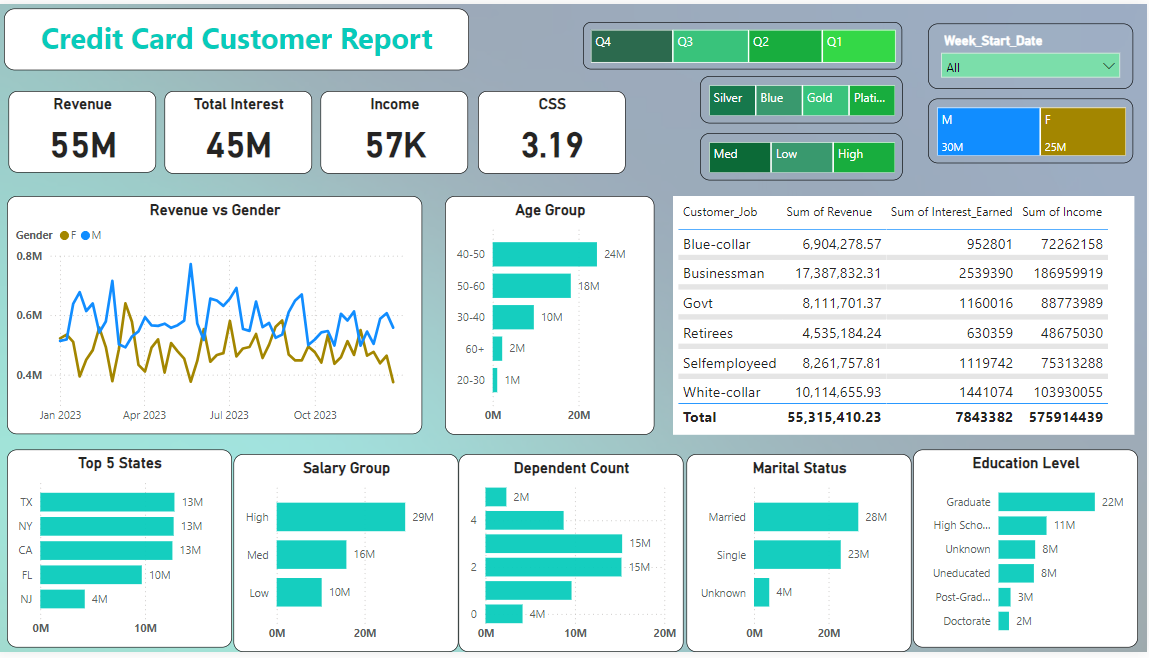

This screenshot's page, from the dashboard's own definition file:
{"tool":"powerbi","page":{"name":"CC_Customer","canvas":[1280,720],"ordinal":1},"visuals":[{"type":"barChart","title":"Top 5 States","fields":{"Y":["Sum(credit_card.Revenue)"],"Category":["customer.state_cd"]},"box":[13.3,495,250,220],"z":0},{"type":"tableEx","fields":{"Values":["customer.Customer_Job","Sum(credit_card.Revenue)","Sum(credit_card.Interest_Earned)","Sum(customer.Income)"]},"box":[752.5,212.5,512.5,265],"z":1000},{"type":"slicer","fields":{"Values":["credit_card.Week_Start_Date"]},"box":[1036.4,20.9,228.2,72.7],"z":2000},{"type":"treemap","fields":{"Group":["credit_card.Qtr"],"Values":["Avg(customer.Client_Num)"]},"box":[653.7,20.7,354.7,52.5],"z":3000},{"type":"treemap","fields":{"Group":["credit_card.Card_Category","customer.IncomeGroup"],"Values":["Avg(customer.Client_Num)"]},"box":[782.5,80,225,52.5],"z":4000},{"type":"treemap","fields":{"Group":["customer.IncomeGroup"],"Values":["Avg(customer.Client_Num)"]},"box":[782.5,142.5,225,52.5],"z":5000},{"type":"card","title":"Revenue","fields":{"Values":["Sum(credit_card.Revenue)"]},"box":[14.3,97,163.8,90.7],"z":6000},{"type":"card","title":"Total Interest","fields":{"Values":["Sum(credit_card.Total_Trans_Amt)"]},"box":[188,96,164,92],"z":7000},{"type":"card","title":"Income","fields":{"Values":["Avg(customer.Income)"]},"box":[362,96,164,92],"z":8000},{"type":"card","title":"CSS","fields":{"Values":["Avg(customer.Cust_Satisfaction_Score)"]},"box":[536,96,164,92],"z":9000},{"type":"textbox","box":[9.5,4.8,516.9,68.4],"z":10000},{"type":"barChart","title":"Salary Group","fields":{"Y":["Sum(credit_card.Revenue)"],"Category":["customer.IncomeGroup"]},"box":[265,500,250,220],"z":11000},{"type":"barChart","title":"Dependent Count","fields":{"Y":["Sum(credit_card.Revenue)"],"Category":["customer.Dependent_Count"]},"box":[515,500,250,220],"z":12000},{"type":"barChart","title":"Marital Status","fields":{"Y":["Sum(credit_card.Revenue)"],"Category":["customer.Marital_Status"]},"box":[767.5,500,250,220],"z":13000},{"type":"barChart","title":"Education Level","fields":{"Y":["Sum(credit_card.Revenue)"],"Category":["customer.Education_Level"]},"box":[1020,495,250,220],"z":14000},{"type":"lineChart","title":"Revenue vs Gender","fields":{"Y":["Sum(credit_card.Revenue)"],"Category":["credit_card.Week_Start_Date.Variation.Date Hierarchy.Year","credit_card.Week_Start_Date.Variation.Date Hierarchy.Quarter","credit_card.Week_Start_Date.Variation.Date Hierarchy.Month","credit_card.Week_Start_Date.Variation.Date Hierarchy.Day"],"Series":["customer.Gender"]},"box":[13.2,213.5,461.1,264.6],"z":15000},{"type":"barChart","title":"Age Group","fields":{"Y":["Sum(credit_card.Revenue)"],"Category":["customer.AgeGroup"]},"box":[500,212.5,232.5,265],"z":16000},{"type":"treemap","fields":{"Group":["customer.Gender"],"Values":["Sum(credit_card.Revenue)"]},"box":[1036.4,105.5,228.2,71.8],"z":17000}]}

Visuals, with their boxes in screenshot pixels (x1, y1, x2, y2), scaled from the page's 1280x720 canvas onto the 1149x658 screenshot:
"Top 5 States" barChart: <bbox>12, 452, 236, 653</bbox>
tableEx - customer.Customer_Job x Sum(credit_card.Revenue): <bbox>675, 194, 1136, 436</bbox>
slicer - credit_card.Week_Start_Date: <bbox>930, 19, 1135, 86</bbox>
treemap - credit_card.Qtr x Avg(customer.Client_Num): <bbox>587, 19, 905, 67</bbox>
treemap - credit_card.Card_Category x customer.IncomeGroup: <bbox>702, 73, 904, 121</bbox>
treemap - customer.IncomeGroup x Avg(customer.Client_Num): <bbox>702, 130, 904, 178</bbox>
"Revenue" card: <bbox>13, 89, 160, 172</bbox>
"Total Interest" card: <bbox>169, 88, 316, 172</bbox>
"Income" card: <bbox>325, 88, 472, 172</bbox>
"CSS" card: <bbox>481, 88, 628, 172</bbox>
textbox: <bbox>9, 4, 473, 67</bbox>
"Salary Group" barChart: <bbox>238, 457, 462, 657</bbox>
"Dependent Count" barChart: <bbox>462, 457, 687, 657</bbox>
"Marital Status" barChart: <bbox>689, 457, 913, 657</bbox>
"Education Level" barChart: <bbox>916, 452, 1140, 653</bbox>
"Revenue vs Gender" lineChart: <bbox>12, 195, 426, 437</bbox>
"Age Group" barChart: <bbox>449, 194, 658, 436</bbox>
treemap - customer.Gender x Sum(credit_card.Revenue): <bbox>930, 96, 1135, 162</bbox>
